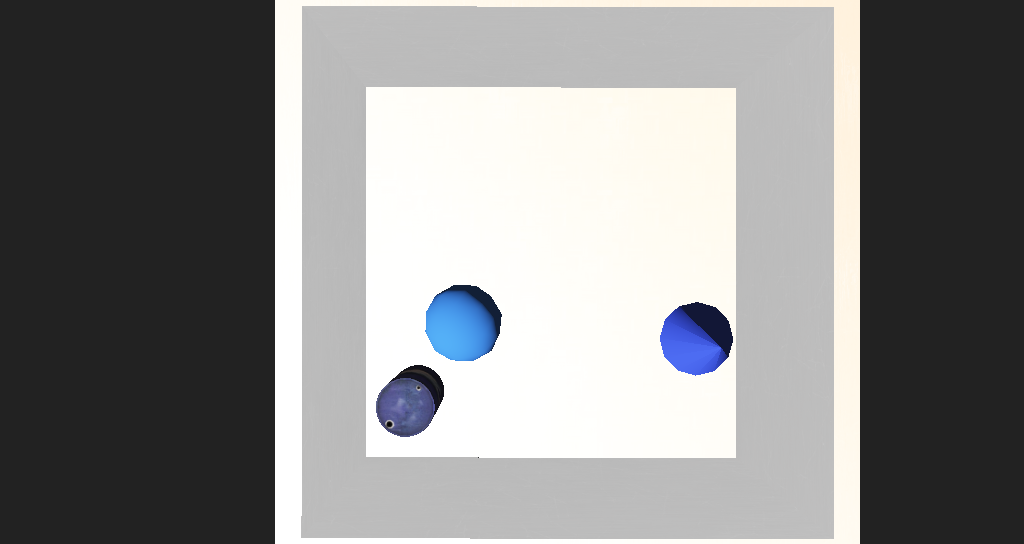cone: (364, 320, 418, 358)
cylinder: (596, 286, 670, 334)
sphere: (408, 272, 468, 320)
